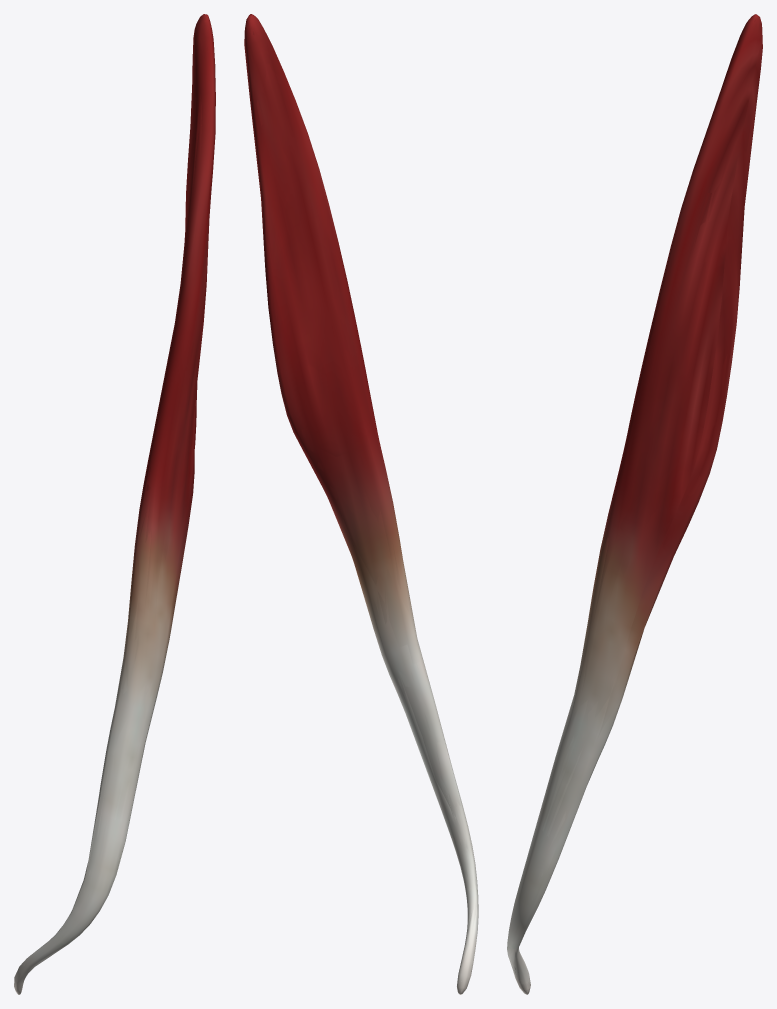
Rendered from L Abductor pollicis longus.fbx.
The picture shows the model from 3 angles, left to right: view 1: azimuth 30°, elevation 25°; view 2: azimuth 150°, elevation 25°; view 3: azimuth 330°, elevation 25°; orthographic projection. The views are drawn at different scales.
Visible parts, largest first — view 1: L Abductor pollicis longus, L Abductor pollicis longus low, L Abductor pollicis longus high; view 2: L Abductor pollicis longus, L Abductor pollicis longus low, L Abductor pollicis longus high; view 3: L Abductor pollicis longus, L Abductor pollicis longus low, L Abductor pollicis longus high.
Boxes of the visible parts, left/top/right/bottom form: L Abductor pollicis longus: left=14, top=14, right=215, bottom=994; L Abductor pollicis longus low: left=16, top=14, right=215, bottom=981; L Abductor pollicis longus high: left=14, top=17, right=215, bottom=991; L Abductor pollicis longus: left=244, top=14, right=478, bottom=994; L Abductor pollicis longus low: left=245, top=14, right=476, bottom=974; L Abductor pollicis longus high: left=246, top=17, right=478, bottom=991; L Abductor pollicis longus: left=507, top=14, right=762, bottom=994; L Abductor pollicis longus low: left=509, top=14, right=762, bottom=991; L Abductor pollicis longus high: left=509, top=17, right=761, bottom=992.
Bounding box in the file's own units: 1.43 × 6.08 × 0.7038.
Materials: 1 (1 with a texture image).
